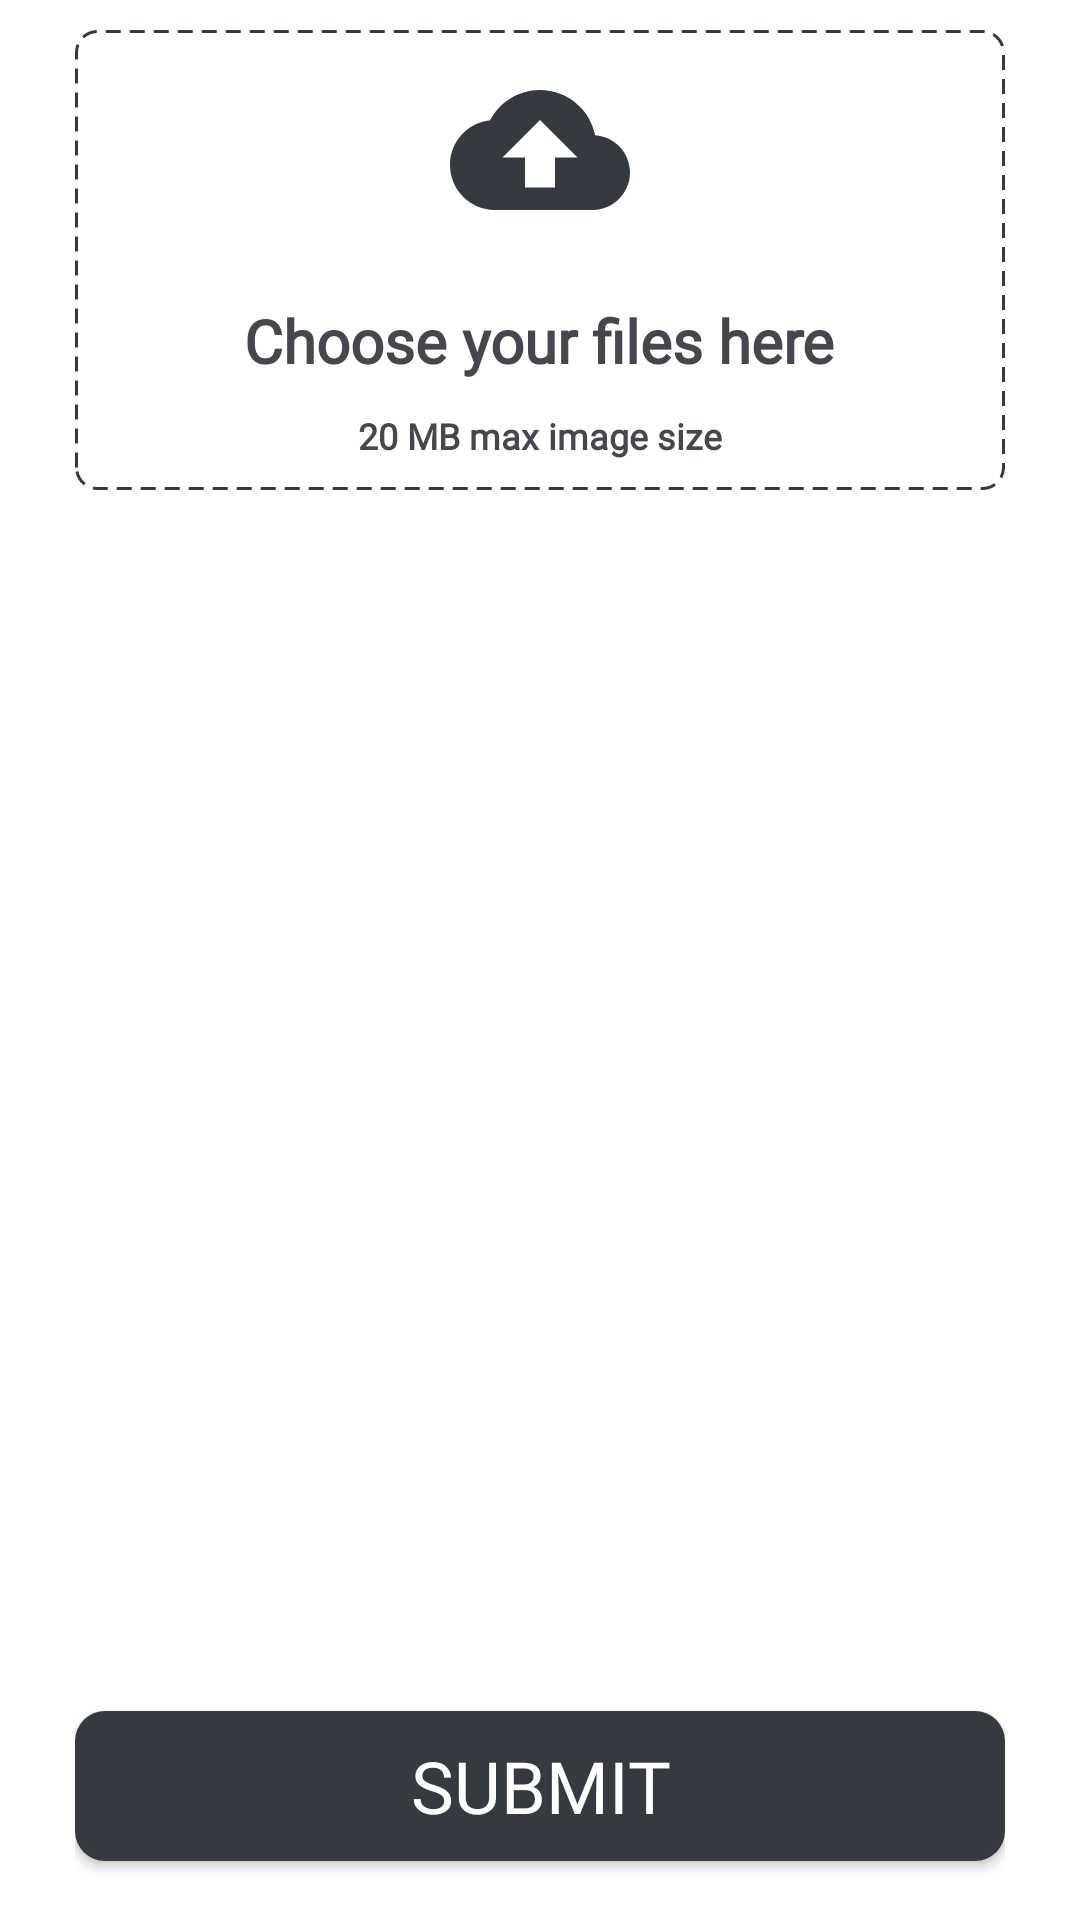

Icons on this 1080×1920 Android screen, each with the point to tap as (x,y):
cloud upload: (540,150)
